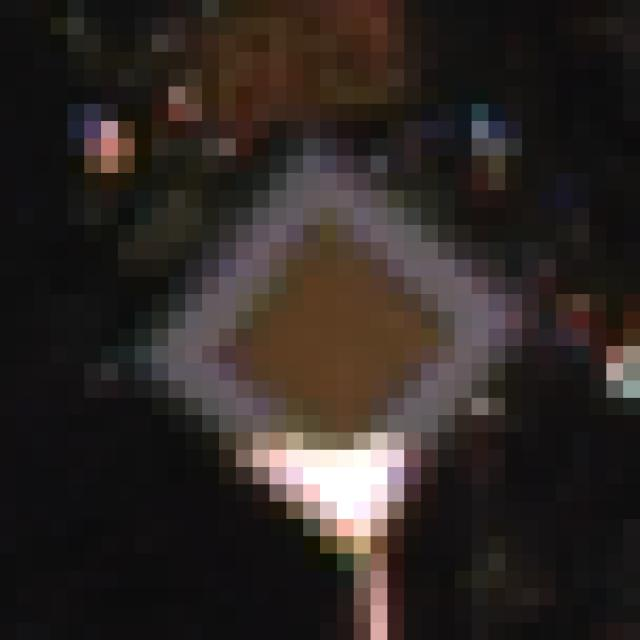Main Road: (85, 88, 540, 555)
